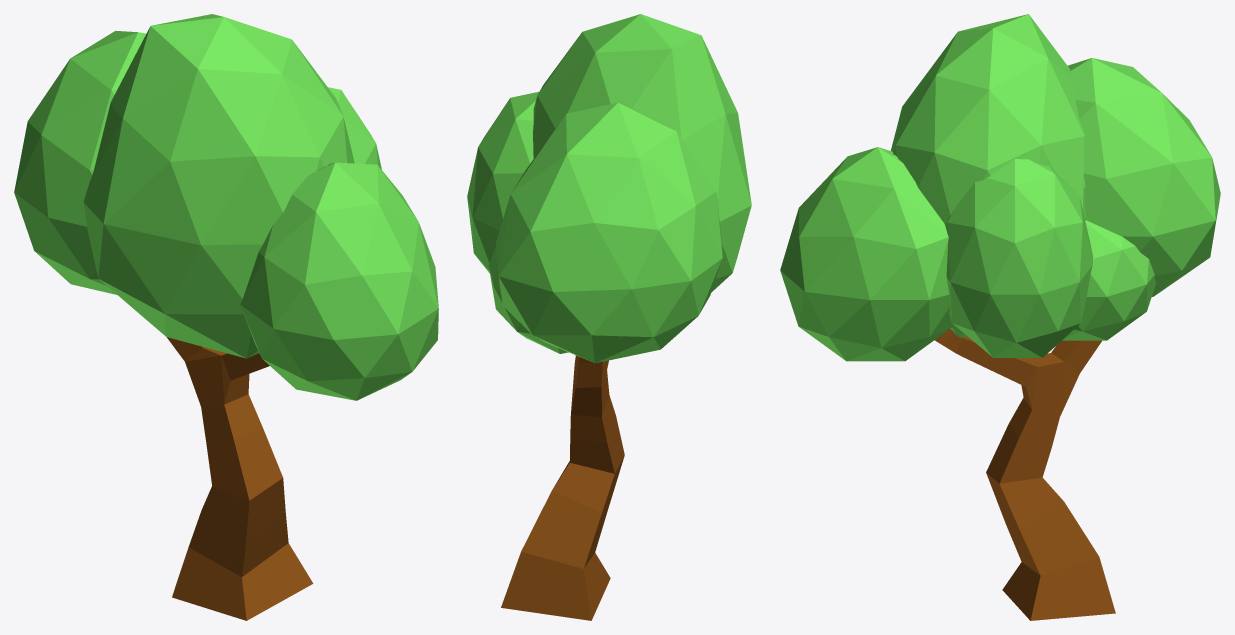
File: tree.glb
The picture shows the model from 3 angles, left to right: view 1: azimuth 30°, elevation 25°; view 2: azimuth 150°, elevation 25°; view 3: azimuth 270°, elevation 25°; orthographic projection. The views are drawn at different scales.
Visible parts, largest first — view 1: Icosphere.003, Plane; view 2: Icosphere.003, Plane; view 3: Icosphere.003, Plane.
Part boxes in pixels (x1=…): Icosphere.003: x1=14, y1=14, x2=438, y2=400; Plane: x1=166, y1=337, x2=313, y2=620; Icosphere.003: x1=467, y1=14, x2=751, y2=363; Plane: x1=501, y1=355, x2=624, y2=620; Icosphere.003: x1=780, y1=14, x2=1220, y2=361; Plane: x1=934, y1=329, x2=1115, y2=620.
Size of the model in its own units: 5.68 by 11.42 by 8.23.
